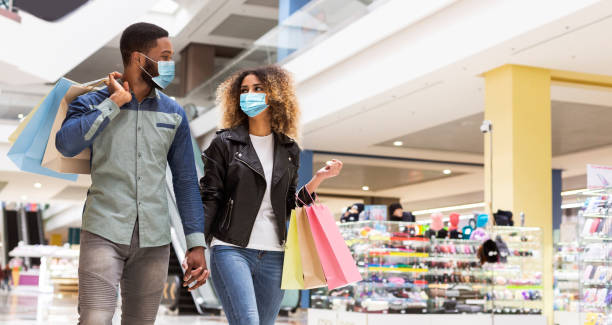with mask: (114, 21, 177, 91), (223, 60, 290, 122)
